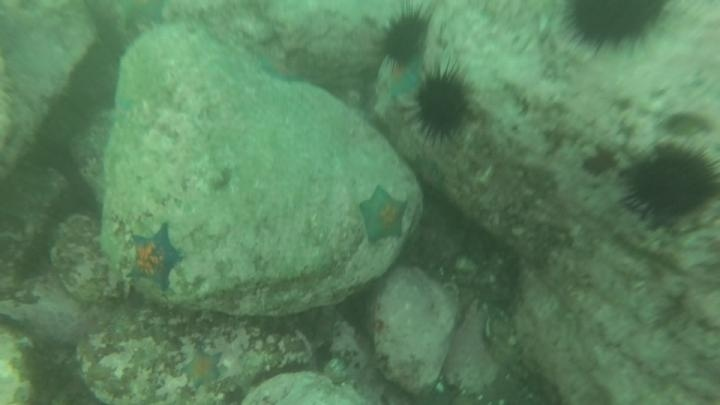echinus: (619, 139, 719, 228), (559, 1, 672, 57), (408, 64, 476, 145), (375, 5, 435, 68)
starfish: (123, 221, 186, 296), (355, 183, 412, 245), (177, 344, 227, 391), (381, 54, 427, 103), (255, 53, 309, 87), (409, 153, 448, 196)
